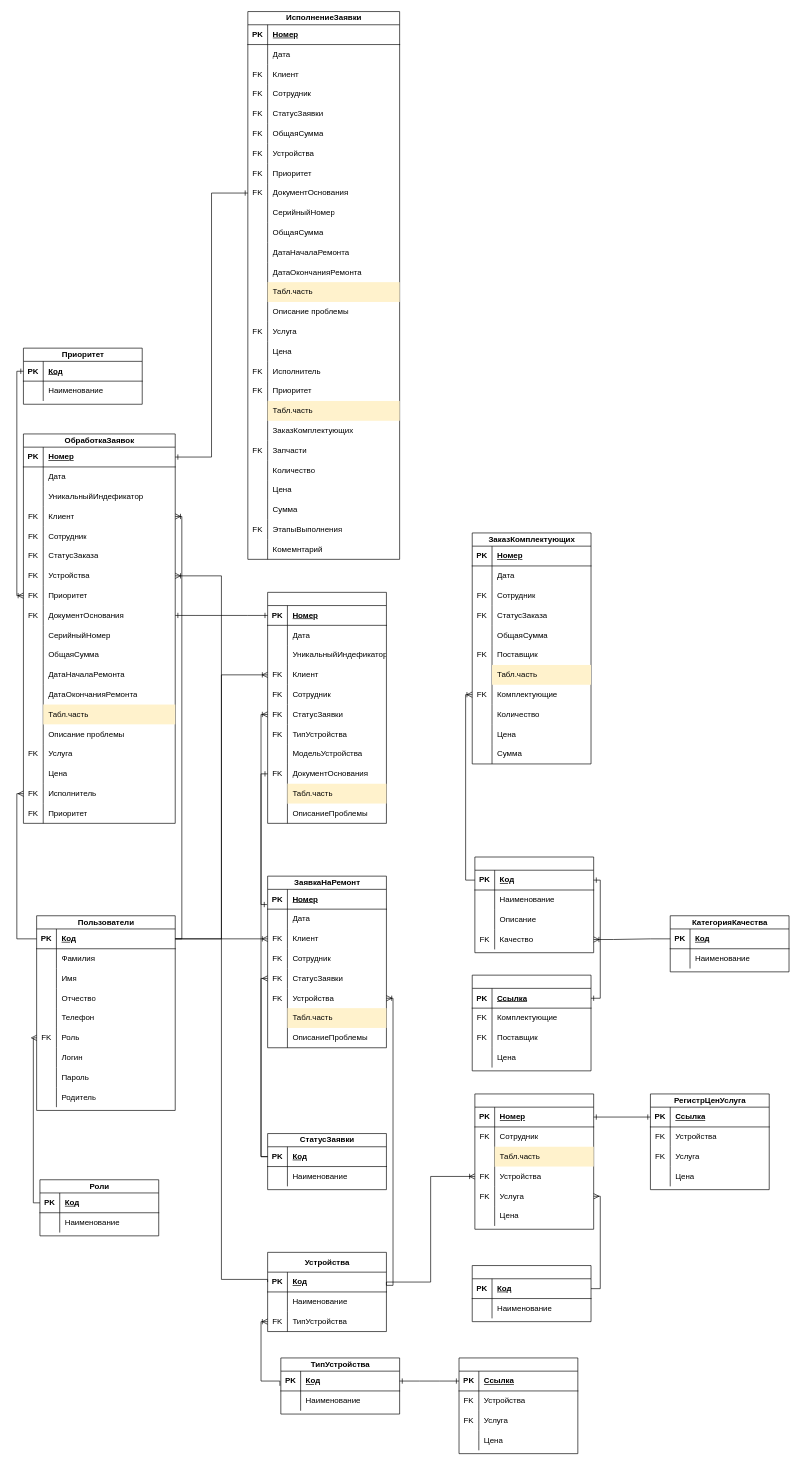
Some shapes in this 801 by 1465 pixel diagram are drawn without their labels. Each missing label, with the box of its shape:
Коплектующие: (474, 856, 594, 953)
РегистрацияЗаявок: (267, 592, 386, 823)
РегистрЦенПоКомплектующим: (472, 974, 591, 1071)
РегистрЦенТипУстройства: (458, 1357, 578, 1454)
Услуги: (472, 1265, 591, 1322)
УстановлениеЦенНаУслуги: (474, 1093, 594, 1229)
